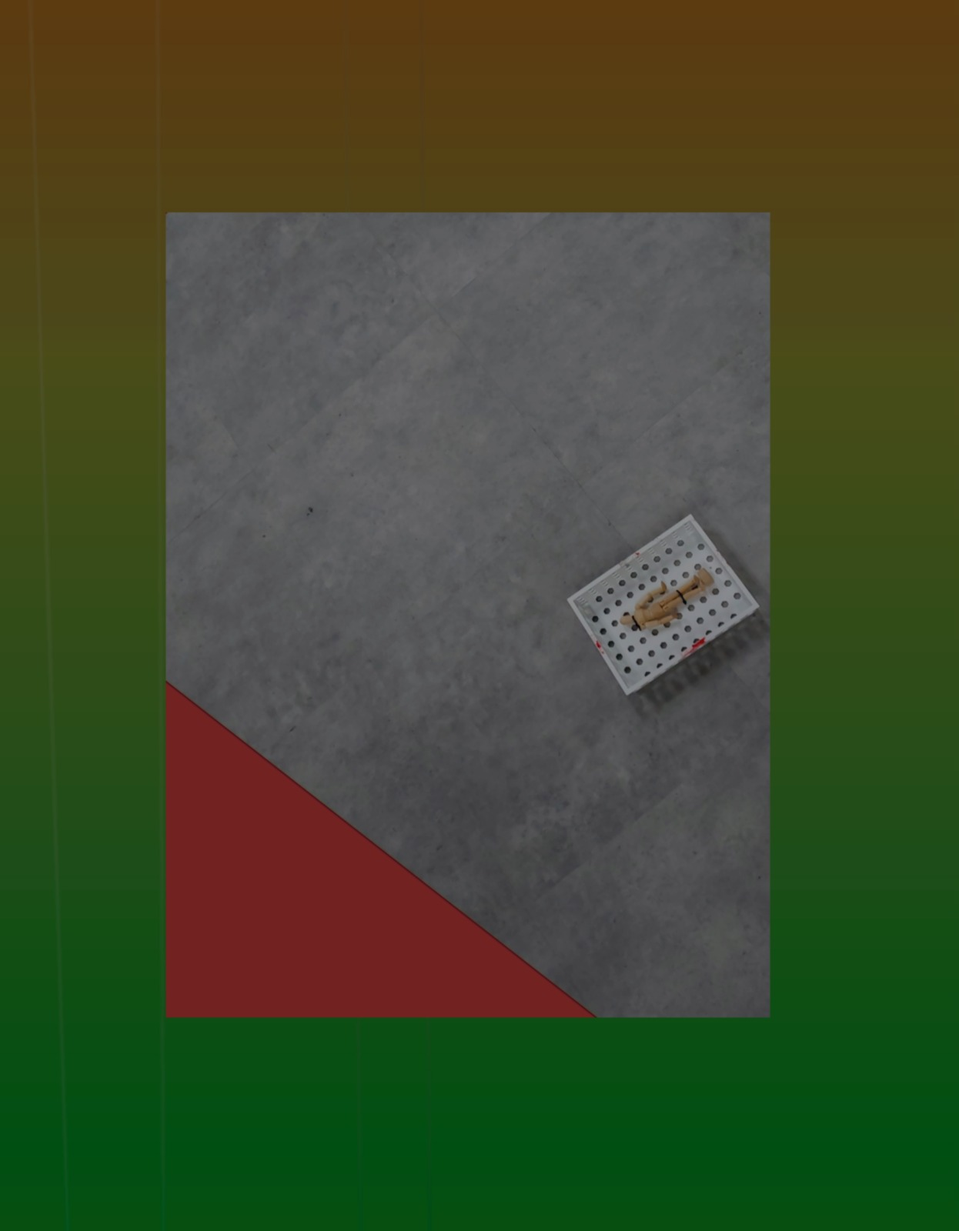basket: (564, 509, 763, 704)
mannequin: (618, 565, 715, 632)
